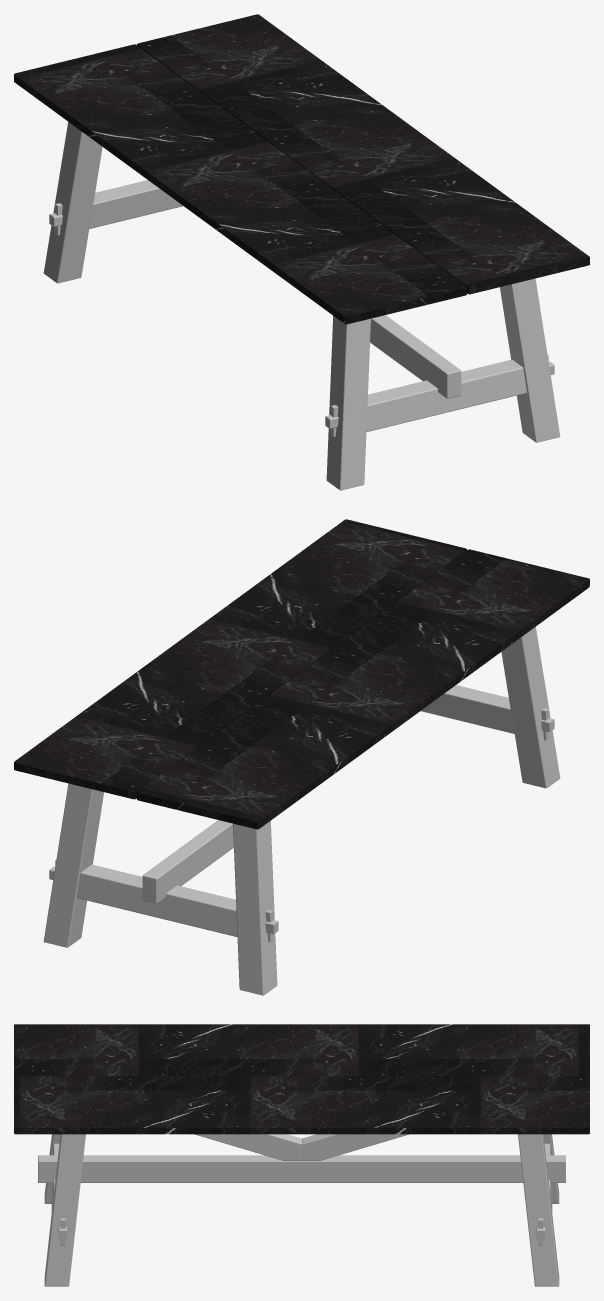
File: dark_marble.dae
3 views of the same model, one above another, from view 1: azimuth 30°, elevation 25°; view 2: azimuth 150°, elevation 25°; view 3: azimuth 270°, elevation 25° (orthographic). The views are drawn at different scales.
Visible parts, largest first — view 1: Wood, Black; view 2: Wood, Black; view 3: Wood, Black.
Boxes of the visible parts, box(x1,y1,x2,y2) form: Wood: box(14, 14, 589, 324); Black: box(43, 122, 560, 490); Wood: box(14, 519, 589, 829); Black: box(43, 627, 560, 995); Wood: box(14, 1024, 589, 1134); Black: box(38, 1134, 565, 1286).
Bounding box in the file's own units: 1 × 2.35 × 0.74.
